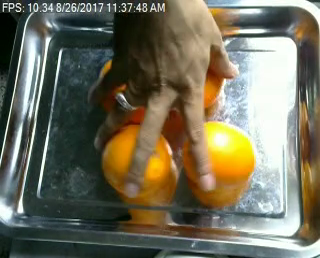Orange: (100, 122, 173, 198)
